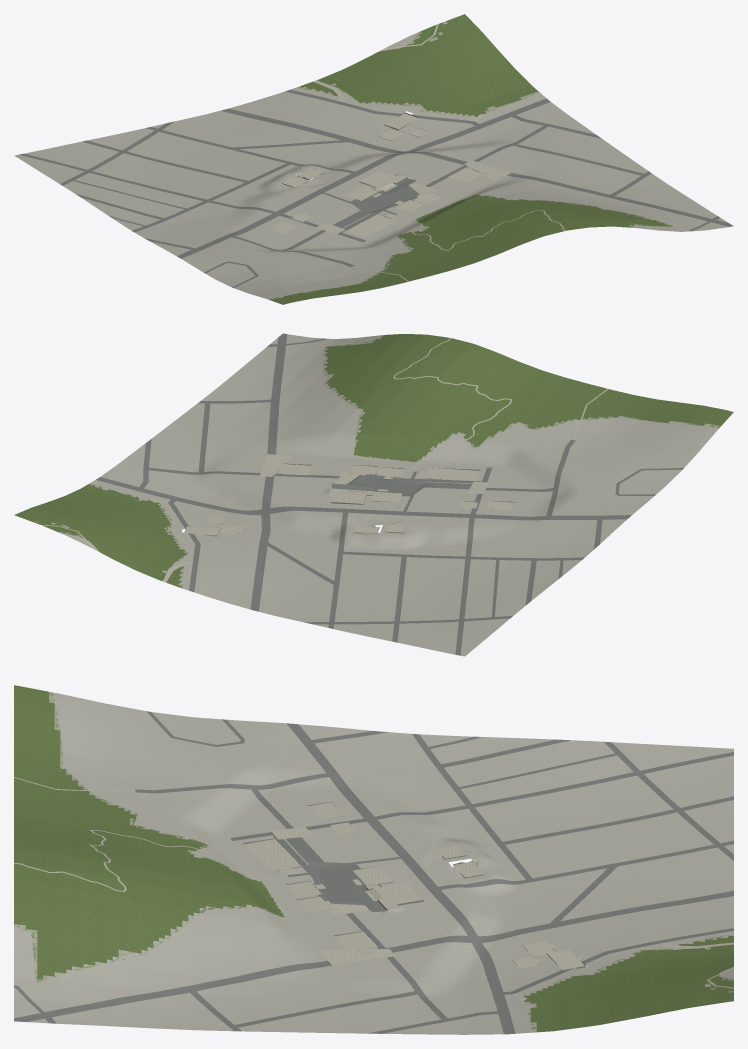
3 renders of one model, top to bottom at view 1: azimuth 30°, elevation 25°; view 2: azimuth 150°, elevation 25°; view 3: azimuth 270°, elevation 25°, orthographic. The views are drawn at different scales.
Parts seen in each view (by area): view 1: bau-base, bau-wood, bau-asphalt, bau-paving, bau-grass, bau-wood-overlay; view 2: bau-base, bau-wood, bau-asphalt, bau-paving, bau-wood-overlay; view 3: bau-base, bau-wood, bau-asphalt, bau-paving, bau-wood-overlay.
Boxes of the visible parts, box(x1,y1,x2,y2) form: bau-base: box(14, 21, 728, 299); bau-wood: box(270, 14, 671, 304); bau-asphalt: box(19, 90, 733, 287); bau-paving: box(268, 24, 565, 281); bau-grass: box(300, 22, 442, 95); bau-wood-overlay: box(269, 21, 668, 299); bau-base: box(34, 334, 720, 656); bau-wood: box(14, 334, 733, 580); bau-asphalt: box(96, 333, 683, 655); bau-paving: box(40, 338, 608, 582); bau-wood-overlay: box(33, 336, 719, 571); bau-base: box(14, 691, 733, 1034); bau-wood: box(14, 685, 733, 1032); bau-asphalt: box(14, 711, 733, 1034); bau-paving: box(14, 777, 733, 999); bau-wood-overlay: box(14, 692, 733, 1032).
Size of the model in its own units: 480 by 59.26 by 496.
Materials: 9 (7 with a texture image).
